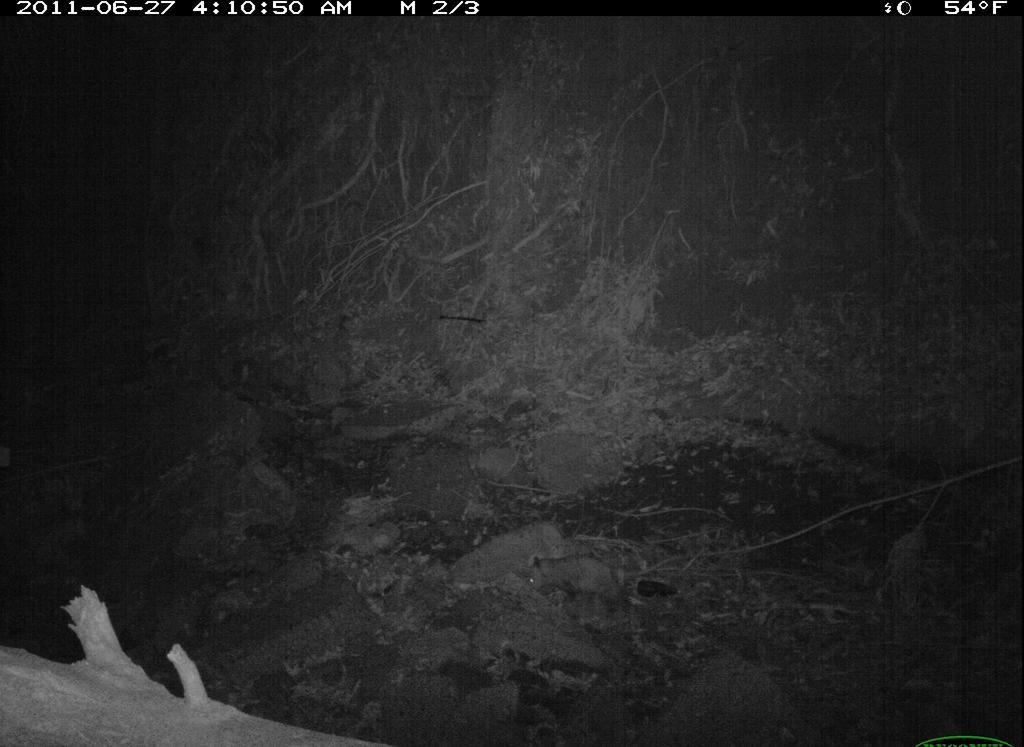opossum: (518, 546, 679, 625)
